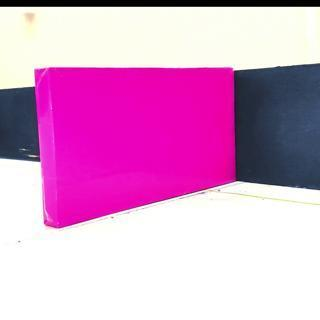xparking: (38, 68, 234, 204)
